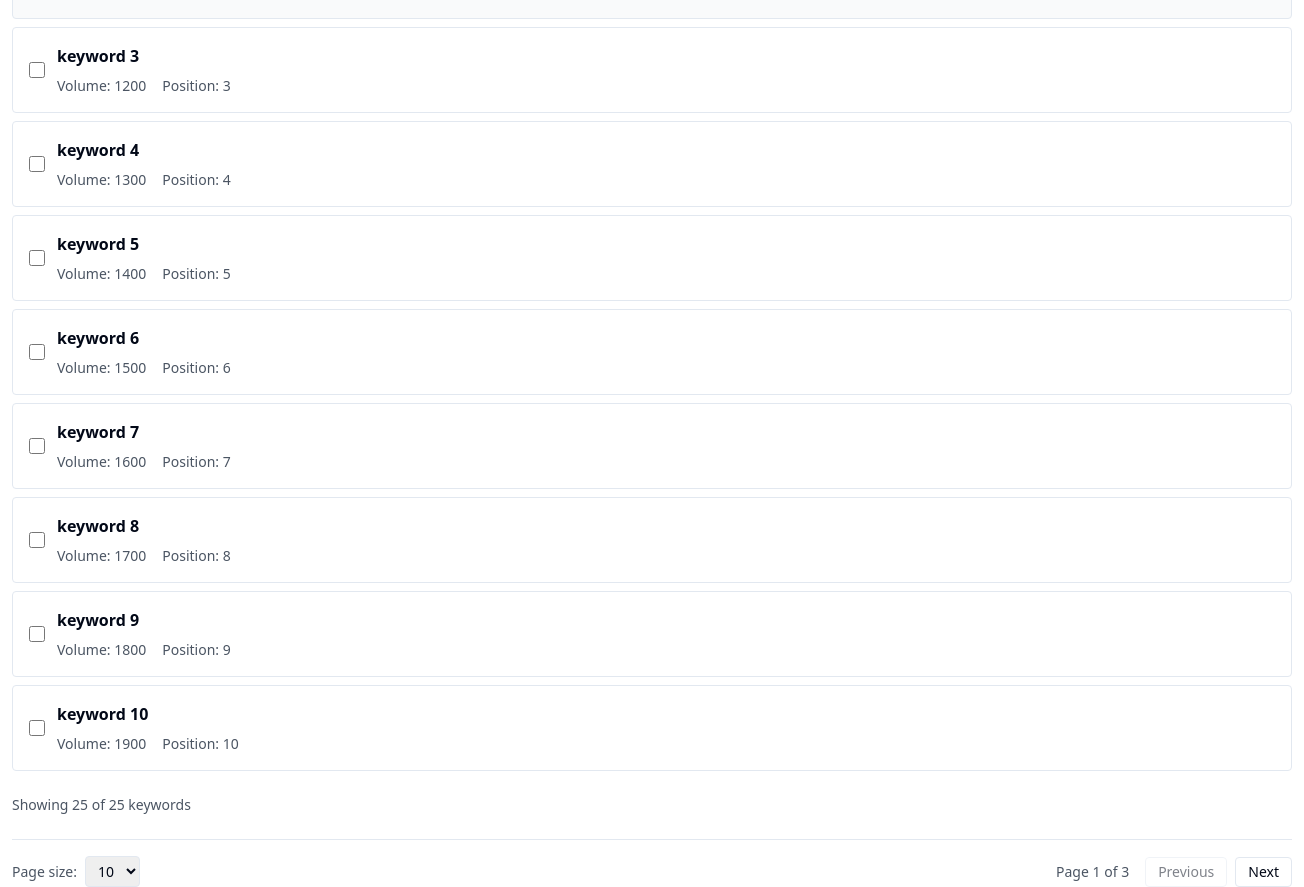
it: KeywordDashboard Component › Pagination › should change page size
(page scrolled)
Select "20" in the dropdown with test id "page-size-select" at (112, 872), box [85, 856, 140, 886]
(page scrolled)
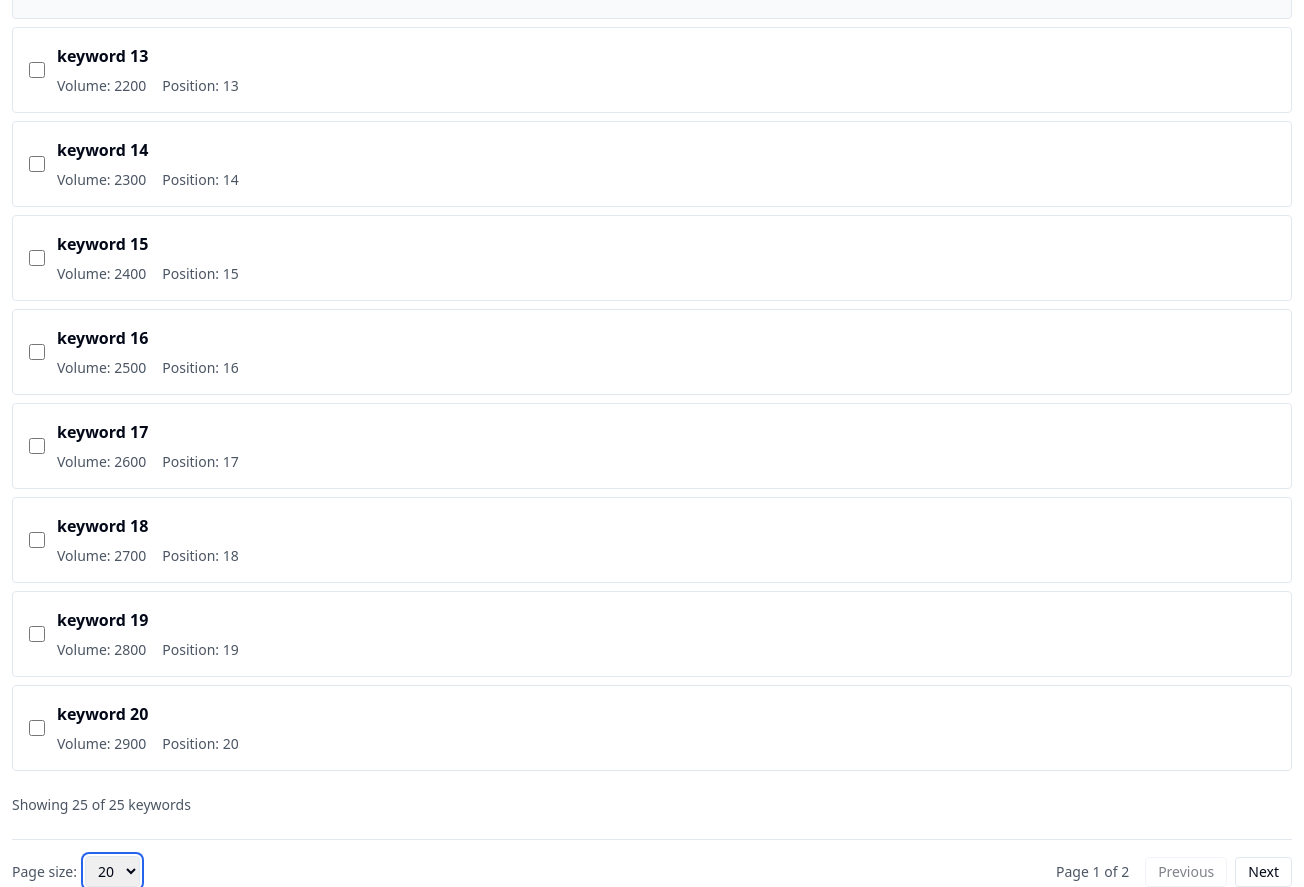
Now the element with test id "keyword-row-kw20" is shown, box [12, 685, 1292, 771]
Now the text with test id "page-info" reads "Page 1 of 2", box [1056, 862, 1129, 882]
